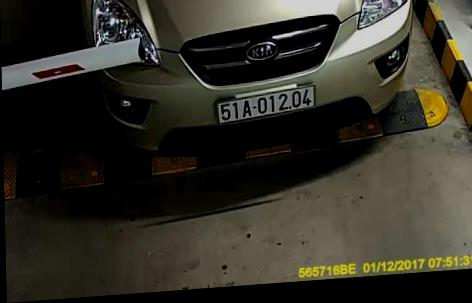License_Plate: (217, 88, 319, 125)
